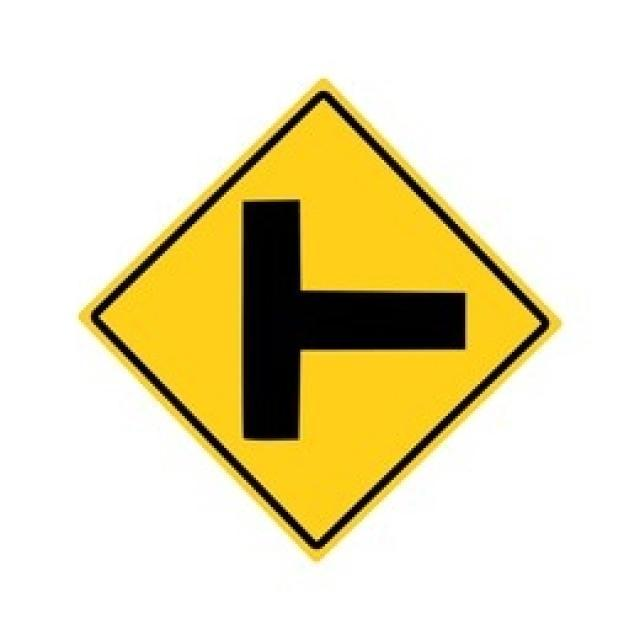side road right: (82, 86, 557, 558)
